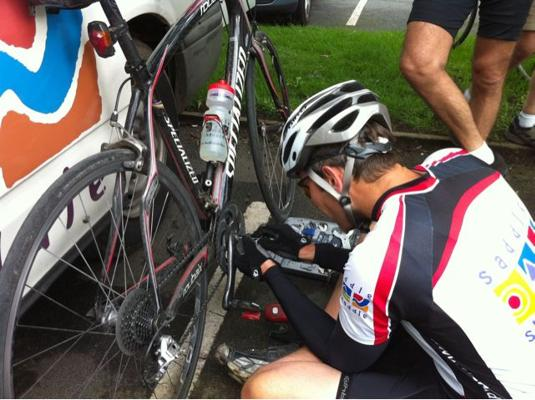person: (234, 80, 534, 398)
